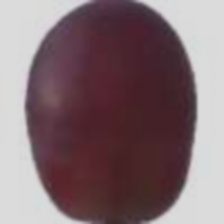grapes: (40, 27, 210, 207)
